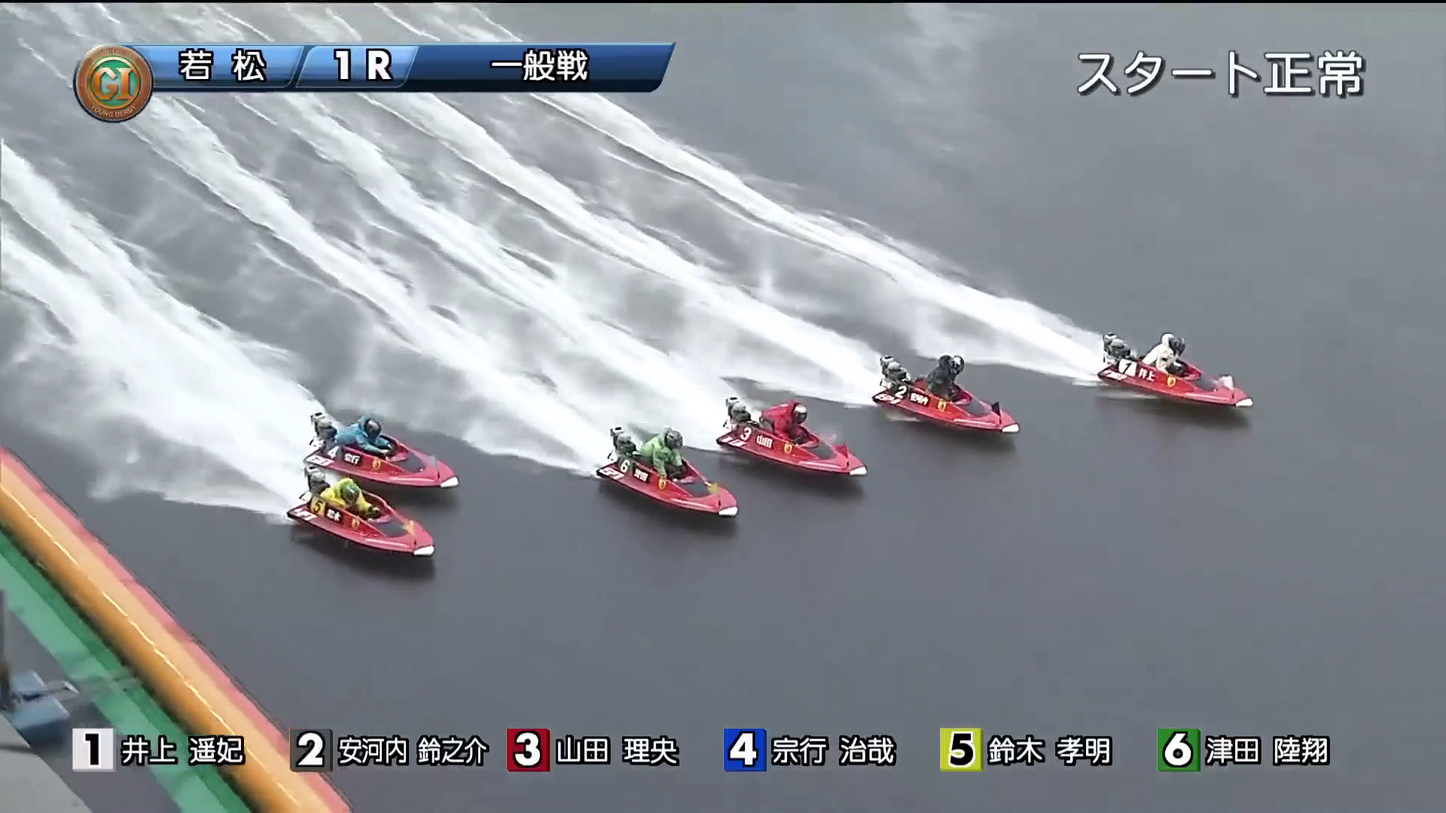１号艇: (1108, 346, 1240, 398)
２号艇: (885, 364, 1010, 422)
３号艇: (748, 425, 883, 467)
４号艇: (621, 455, 739, 518)
５号艇: (331, 432, 455, 487)
６号艇: (342, 517, 442, 574)
